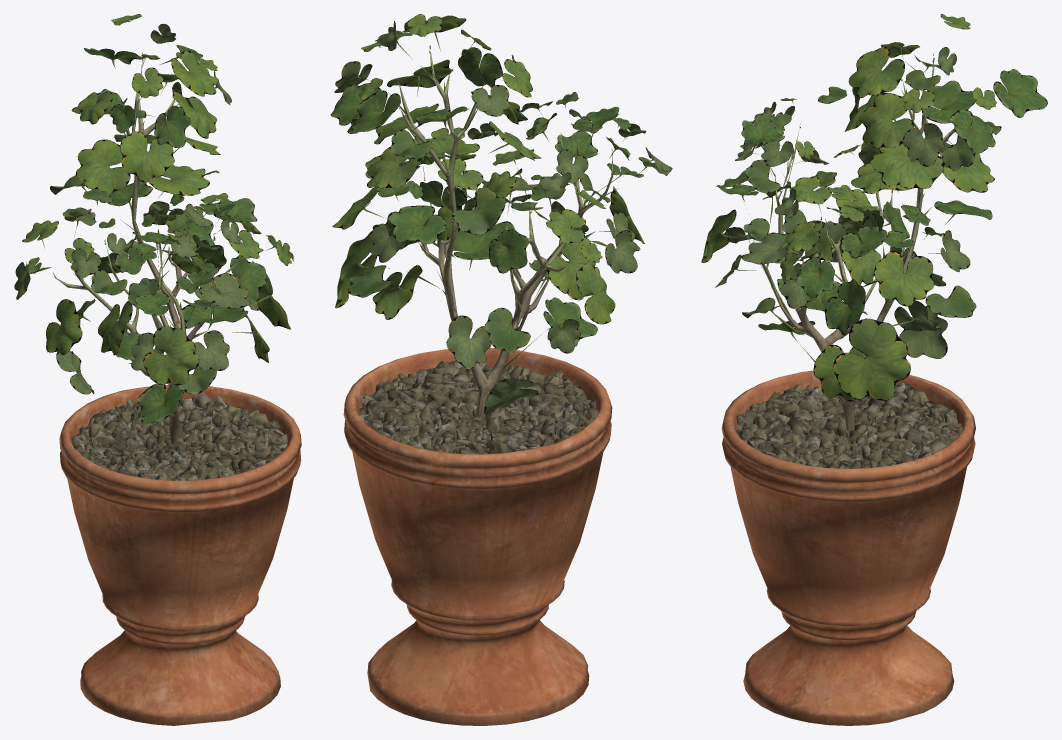
File: plant.glb
3 renders of one model, left to right at view 1: azimuth 30°, elevation 25°; view 2: azimuth 150°, elevation 25°; view 3: azimuth 270°, elevation 25°, orthographic. The views are drawn at different scales.
Visible parts, largest first — view 1: potted_plant_01_pot, potted_plant_01_leaves, potted_plant_01_pebbles, potted_plant_01_stem; view 2: potted_plant_01_pot, potted_plant_01_leaves, potted_plant_01_pebbles, potted_plant_01_stem; view 3: potted_plant_01_pot, potted_plant_01_leaves, potted_plant_01_pebbles, potted_plant_01_stem.
Boxes of the visible parts, box(x1,y1,x2,y2) form: potted_plant_01_pot: box(59, 385, 301, 725); potted_plant_01_leaves: box(14, 14, 293, 424); potted_plant_01_pebbles: box(71, 392, 287, 480); potted_plant_01_stem: box(54, 57, 244, 444); potted_plant_01_pot: box(343, 348, 612, 725); potted_plant_01_leaves: box(330, 14, 672, 414); potted_plant_01_pebbles: box(359, 360, 597, 453); potted_plant_01_stem: box(398, 49, 613, 422); potted_plant_01_pot: box(721, 370, 975, 725); potted_plant_01_leaves: box(701, 14, 1047, 401); potted_plant_01_pebbles: box(736, 382, 962, 468); potted_plant_01_stem: box(753, 57, 954, 432).
Bounding box in the file's own units: 0.5874 × 1.34 × 0.6336.
2 materials, 2 textured.
